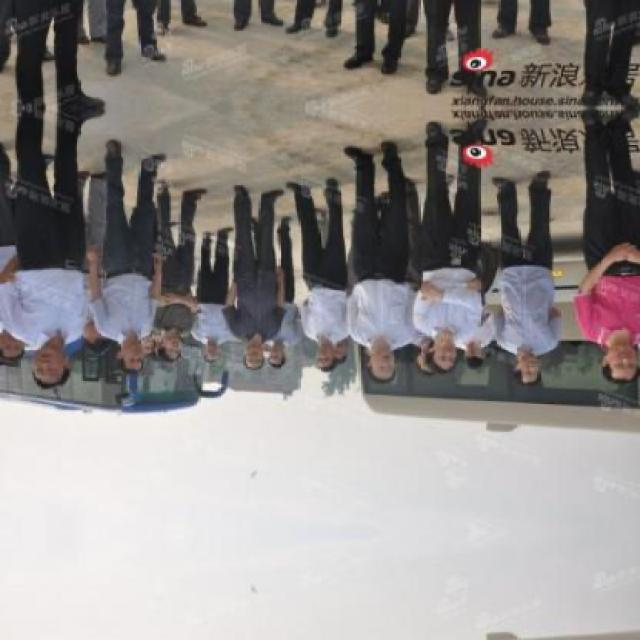sin casco: (595, 284, 640, 404), (24, 306, 82, 394), (514, 299, 559, 410), (218, 307, 283, 379), (110, 285, 159, 375), (357, 311, 414, 385), (426, 318, 496, 378), (314, 306, 364, 388)
